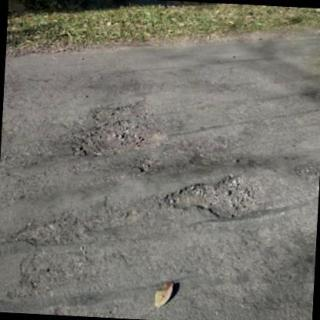pothole: (12, 197, 138, 247), (72, 99, 156, 155), (165, 177, 265, 221), (8, 255, 72, 301)
